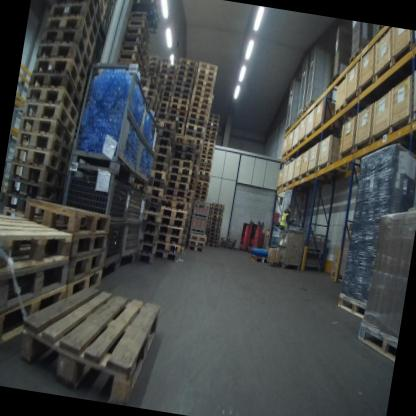pallet: (12, 268, 170, 405), (0, 204, 80, 287), (0, 250, 69, 326), (0, 281, 64, 358), (20, 193, 111, 242), (39, 12, 98, 64), (27, 69, 87, 118), (44, 1, 99, 48), (34, 39, 90, 85), (38, 27, 94, 73), (16, 114, 76, 152), (0, 192, 67, 226), (48, 0, 103, 40), (4, 179, 68, 213), (32, 55, 87, 94), (14, 130, 74, 165), (23, 84, 81, 120), (7, 161, 69, 193), (20, 102, 77, 136), (352, 320, 398, 362), (61, 247, 104, 287), (63, 226, 108, 264), (11, 146, 70, 174), (62, 267, 101, 307), (55, 0, 105, 26), (126, 1, 160, 35), (334, 289, 367, 319), (129, 0, 163, 20), (153, 116, 179, 140), (127, 20, 151, 42), (139, 87, 164, 108), (139, 98, 160, 120), (142, 81, 165, 101), (117, 50, 141, 69), (153, 240, 181, 256), (154, 232, 182, 248), (122, 29, 148, 46), (156, 224, 183, 240), (133, 0, 166, 13), (121, 36, 145, 53), (152, 250, 180, 264), (119, 43, 142, 60), (327, 70, 346, 90), (150, 160, 171, 178), (144, 75, 165, 93), (347, 45, 365, 66), (158, 207, 186, 220), (139, 94, 160, 111), (158, 216, 185, 229), (157, 126, 176, 144), (160, 199, 187, 211), (153, 153, 172, 170), (154, 135, 175, 150), (170, 157, 194, 170), (174, 133, 198, 146), (155, 144, 173, 161), (91, 0, 107, 19), (165, 173, 190, 185), (145, 196, 162, 213), (172, 143, 196, 155), (184, 123, 207, 135), (139, 94, 160, 107), (135, 251, 154, 265), (162, 188, 186, 199), (184, 118, 208, 129), (141, 222, 158, 237), (182, 129, 205, 140), (149, 169, 167, 183), (171, 151, 195, 161), (250, 252, 268, 265), (192, 83, 213, 94), (164, 182, 187, 192), (187, 229, 206, 241), (136, 242, 155, 254), (301, 101, 315, 117), (143, 211, 160, 224), (185, 243, 205, 254), (169, 167, 191, 177), (187, 111, 207, 122), (193, 73, 214, 83), (191, 89, 212, 99), (198, 60, 217, 71), (148, 178, 165, 190), (196, 67, 216, 77), (162, 195, 186, 203), (179, 57, 198, 67), (192, 79, 213, 88), (189, 94, 210, 103), (188, 100, 209, 109), (188, 106, 209, 115), (138, 235, 156, 245), (173, 80, 192, 89), (171, 91, 190, 100), (169, 102, 188, 111), (166, 113, 185, 122), (156, 72, 175, 81), (159, 67, 178, 76), (265, 260, 282, 270), (374, 25, 388, 37), (187, 238, 205, 247), (176, 64, 196, 72), (167, 108, 187, 116), (155, 78, 172, 87), (174, 75, 193, 83), (172, 86, 191, 94), (170, 97, 189, 105), (148, 188, 164, 197), (176, 70, 194, 78), (159, 61, 177, 69), (195, 179, 210, 188), (194, 142, 204, 155), (192, 188, 208, 196), (218, 239, 235, 246), (171, 126, 184, 135), (196, 168, 209, 177), (217, 244, 233, 251), (193, 192, 207, 200), (158, 90, 173, 97), (194, 183, 209, 190), (196, 174, 211, 181), (201, 144, 214, 152), (96, 0, 106, 10), (194, 151, 203, 162), (210, 201, 224, 208), (209, 209, 223, 216), (200, 149, 214, 156), (203, 133, 217, 140), (220, 236, 236, 242), (172, 120, 184, 128), (161, 85, 173, 93), (205, 241, 218, 248), (198, 166, 211, 173), (204, 130, 217, 137), (207, 112, 220, 119), (192, 158, 200, 169), (210, 206, 224, 212), (159, 96, 171, 103), (200, 154, 212, 161), (191, 165, 199, 175), (283, 124, 291, 134), (209, 214, 222, 220), (207, 228, 220, 234), (198, 162, 211, 168), (199, 157, 212, 163), (202, 138, 215, 144), (158, 101, 169, 108), (207, 122, 218, 129), (206, 232, 221, 237), (208, 220, 220, 226), (185, 195, 194, 203), (185, 202, 193, 211), (202, 140, 214, 146), (207, 117, 219, 123), (295, 111, 302, 121), (206, 126, 217, 132), (208, 225, 221, 230), (207, 235, 220, 240), (158, 113, 167, 120), (184, 210, 191, 219), (207, 238, 218, 243), (158, 109, 169, 114), (209, 218, 221, 222), (190, 171, 196, 179), (186, 191, 193, 197), (188, 184, 194, 191), (188, 178, 194, 184)
pallet_truck: (246, 217, 270, 258), (235, 216, 254, 253)
stillage: (67, 54, 153, 188), (48, 158, 136, 284), (118, 187, 152, 277), (130, 104, 163, 194), (272, 225, 308, 272), (299, 227, 330, 273), (187, 197, 212, 235)
